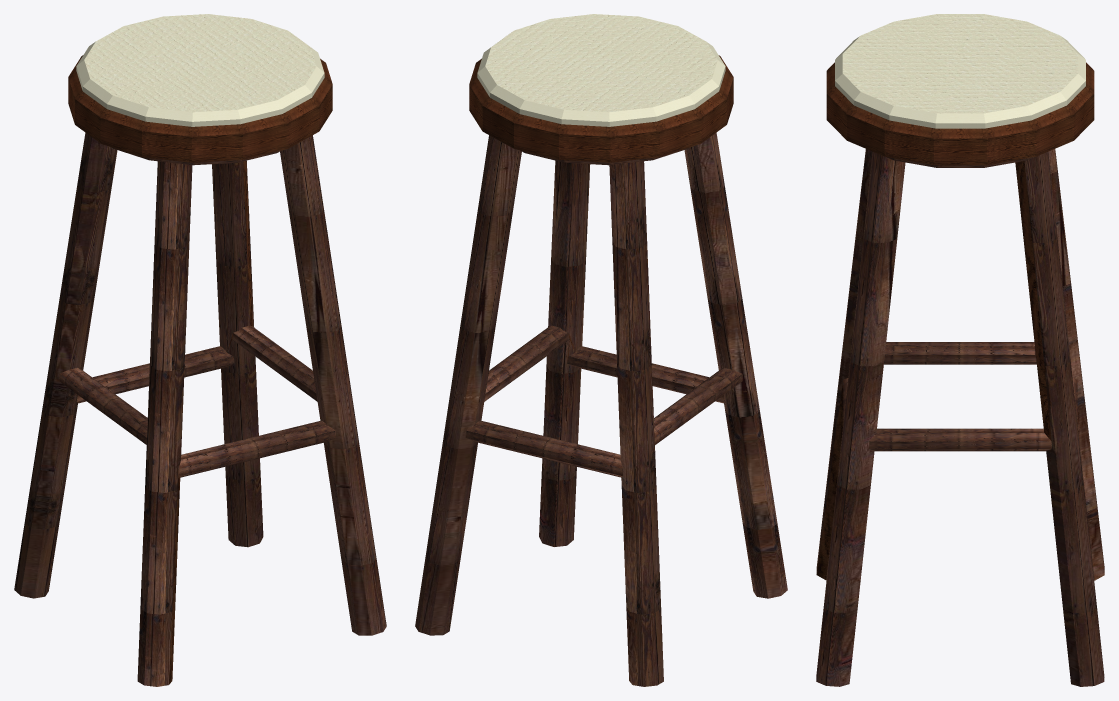
Rendered from bar_stool.glb.
The picture shows the model from 3 angles, left to right: view 1: azimuth 30°, elevation 25°; view 2: azimuth 150°, elevation 25°; view 3: azimuth 270°, elevation 25°; orthographic projection. The views are drawn at different scales.
Parts seen in each view (by area): view 1: object1.002; view 2: object1.002; view 3: object1.002.
Boxes of the visible parts, left/top/right/bottom form: object1.002: left=14, top=14, right=386, bottom=686; object1.002: left=415, top=14, right=787, bottom=686; object1.002: left=816, top=14, right=1104, bottom=686.
Bounding box in the file's own units: 0.4309 × 0.9303 × 0.4309.
3 materials, 3 textured.
